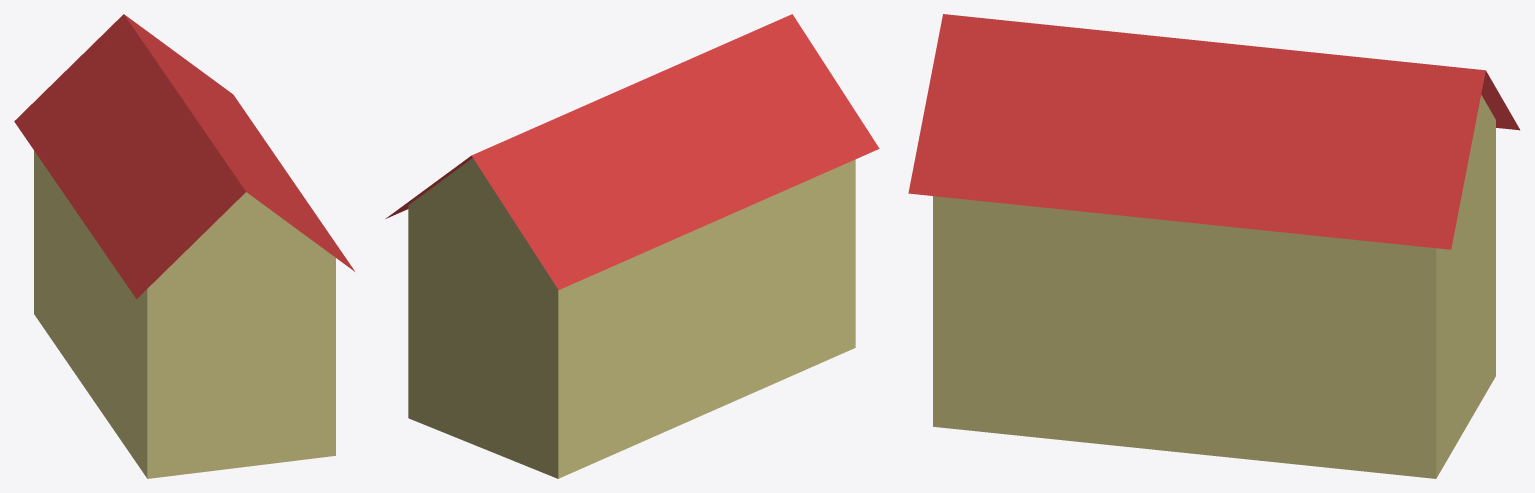
The picture shows the model from 3 angles, left to right: view 1: azimuth 30°, elevation 25°; view 2: azimuth 150°, elevation 25°; view 3: azimuth 270°, elevation 25°; orthographic projection. The views are drawn at different scales.
Parts seen in each view (by area): view 1: group_5, group_3, group_4; view 2: group_5, group_3, group_4; view 3: group_5, group_3, group_4.
Boxes of the visible parts, x1,y1,x2,y2 form: group_5: [34, 151, 335, 478]; group_3: [14, 14, 335, 299]; group_4: [77, 14, 354, 286]; group_5: [408, 158, 855, 478]; group_3: [389, 14, 879, 289]; group_4: [385, 14, 792, 265]; group_5: [933, 95, 1495, 478]; group_3: [911, 14, 1485, 249]; group_4: [908, 14, 1519, 249].
Bounding box in the file's own units: 15.31 × 22.53 × 14.6.
